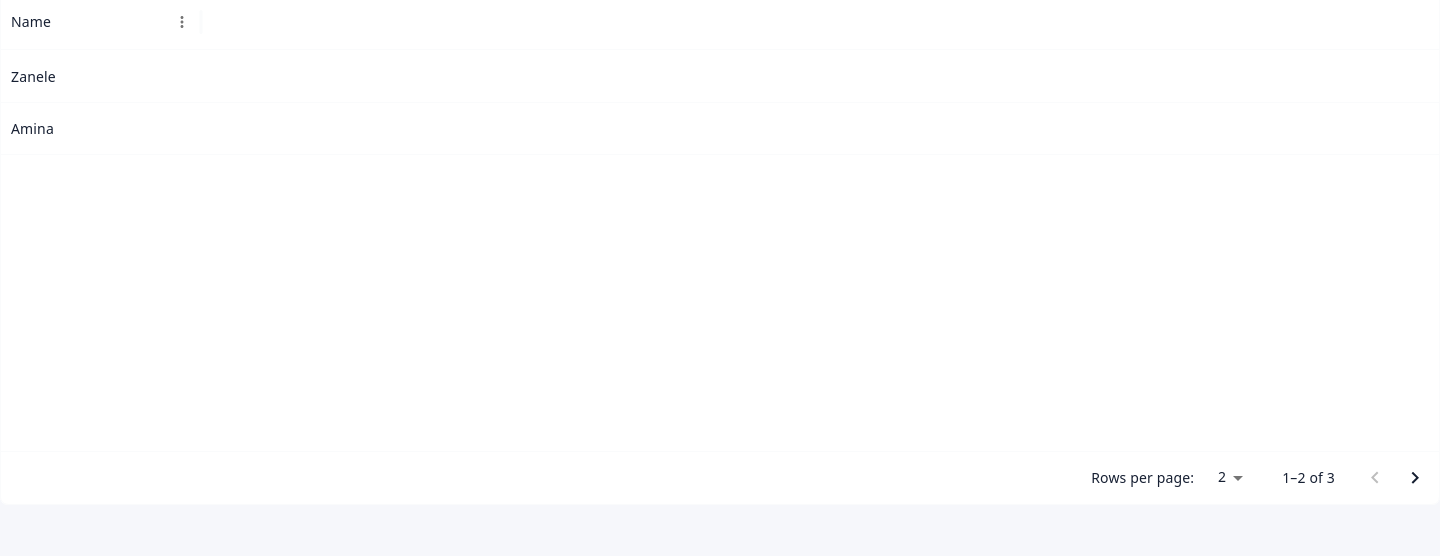
Test case: NexaDataGrid › paginates without losing the typed dataset
The width and height of the screenshot is (1440, 556).
Check: the cell "Liam" is not shown
Click the button named "Go to next page" at (1415, 478), box 1395,458 -> 1435,498
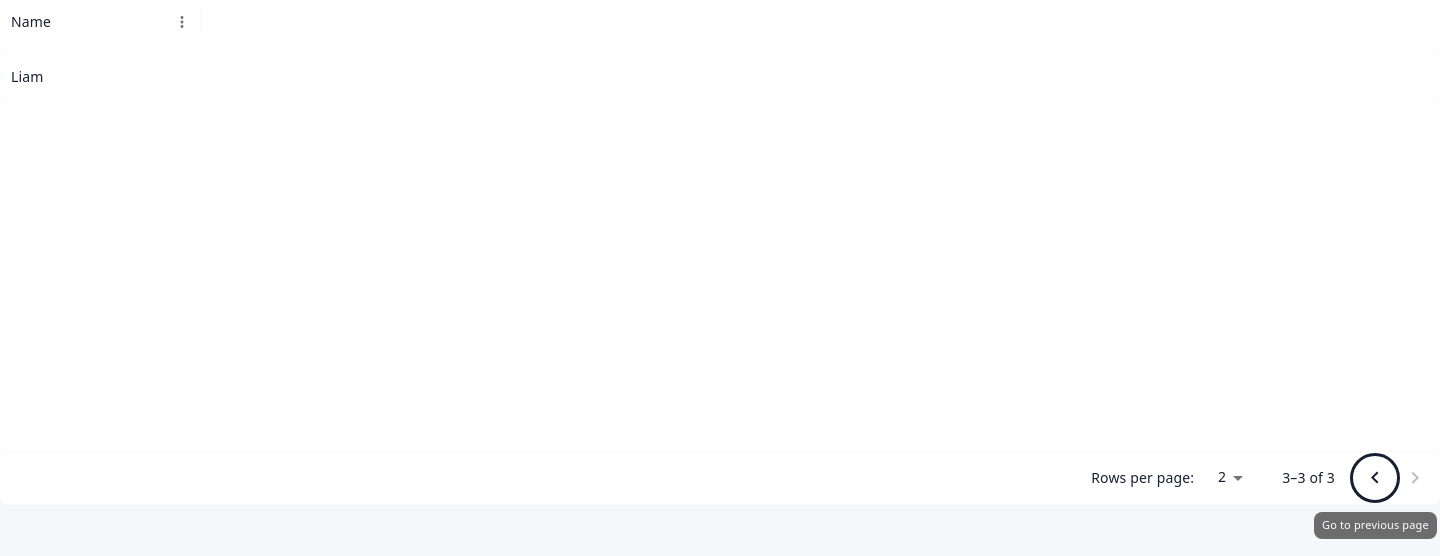
Check: the cell "Liam" is shown, box 11,67 -> 44,86
